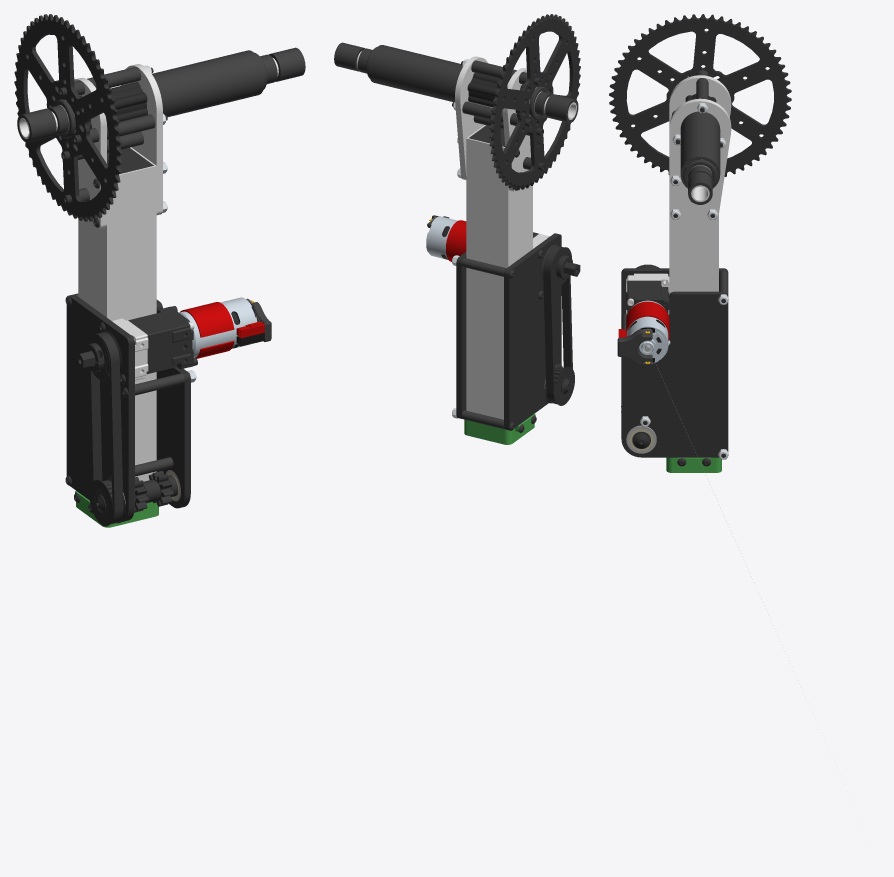
The picture shows the model from 3 angles, left to right: view 1: azimuth 30°, elevation 25°; view 2: azimuth 150°, elevation 25°; view 3: azimuth 270°, elevation 25°; orthographic projection. The views are drawn at different scales.
Parts seen in each view (by area): view 1: Tube 2"x2"x13", 60t Aluminum Sprocket (#35, SplineXL Bore), Arm Extention Motor Plate, Arm Extention Outer Plate, 80T HTD Belt, Arm Tube Mount Plate (×2), 775 RedLine Motor, SplineXL Custom Spacer (1.6" OD,2.343" L), SplineXL Custom Spacer (1.6" OD,2" L), VersaPlanetary Ring Gear (×2), 24t Custom HTD 5mm Pulley (0.375" Wide, 1/2" Hex Bore w/ TTB (×2), VersaPlanetary Input Block (+7 smaller); view 2: Tube 2"x2"x13", 60t Aluminum Sprocket (#35, SplineXL Bore), Arm Extention Motor Plate, Arm Tube Mount Plate (×2), 80T HTD Belt, SplineXL Custom Spacer (1.6" OD,2.343" L), Arm Extention Outer Plate, SplineXL Custom Spacer (1.6" OD,2" L), 775 RedLine Motor, Arm Outer Endcap, SplineXL (7.5" L), 0.76" ID Custom Spacer (1" OD,1" L) (+2 smaller); view 3: Arm Extention Outer Plate, 60t Aluminum Sprocket (#35, SplineXL Bore), Arm Tube Mount Plate (×2), Tube 2"x2"x13", 775 RedLine Motor, SplineXL Custom Spacer (1.6" OD,2.343" L), SplineXL Custom Spacer (1.6" OD,2" L), 775_inline_connector_v1, Arm Outer Endcap, Arm Extention Motor Plate.
Boxes of the visible parts, x1,y1,x2,y2 form: Tube 2"x2"x13": (78, 147, 156, 481); 60t Aluminum Sprocket (#35, SplineXL Bore): (14, 14, 122, 221); Arm Extention Motor Plate: (66, 294, 134, 521); Arm Extention Outer Plate: (156, 299, 190, 508); 80T HTD Belt: (88, 332, 123, 524); Arm Tube Mount Plate (×2): (74, 64, 162, 229); 775 RedLine Motor: (179, 297, 257, 358); SplineXL Custom Spacer (1.6" OD,2.343" L): (190, 50, 264, 108); SplineXL Custom Spacer (1.6" OD,2" L): (152, 64, 206, 116); VersaPlanetary Ring Gear (×2): (128, 314, 172, 374); 24t Custom HTD 5mm Pulley (0.375" Wide, 1/2" Hex Bore w/ TTB (×2): (86, 330, 125, 526); VersaPlanetary Input Block: (153, 307, 190, 369); Tube 2"x2"x13": (466, 125, 532, 419); 60t Aluminum Sprocket (#35, SplineXL Bore): (489, 14, 580, 190); Arm Extention Motor Plate: (504, 233, 561, 430); Arm Tube Mount Plate (×2): (455, 56, 530, 192); 80T HTD Belt: (543, 245, 572, 404); SplineXL Custom Spacer (1.6" OD,2.343" L): (368, 45, 431, 94); Arm Extention Outer Plate: (456, 252, 466, 418); SplineXL Custom Spacer (1.6" OD,2" L): (418, 57, 462, 102); 775 RedLine Motor: (426, 216, 466, 261); Arm Outer Endcap: (464, 414, 535, 444); SplineXL (7.5" L): (467, 72, 536, 116); 0.76" ID Custom Spacer (1" OD,1" L): (545, 94, 578, 122); Arm Extention Outer Plate: (621, 291, 728, 457); 60t Aluminum Sprocket (#35, SplineXL Bore): (609, 14, 791, 176); Arm Tube Mount Plate (×2): (669, 75, 731, 218); Tube 2"x2"x13": (669, 214, 718, 295); 775 RedLine Motor: (626, 300, 669, 363); SplineXL Custom Spacer (1.6" OD,2.343" L): (680, 132, 720, 188); SplineXL Custom Spacer (1.6" OD,2" L): (680, 111, 720, 149); 775_inline_connector_v1: (617, 329, 786, 654); Arm Outer Endcap: (666, 457, 721, 472); Arm Extention Motor Plate: (621, 268, 728, 317).
Bounding box in the file's own units: 0.2794 × 0.9164 × 0.2779.
